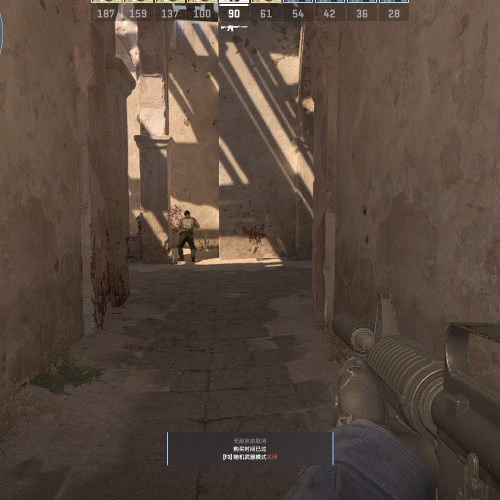t_body: (177, 210, 200, 263)
t_head: (183, 210, 190, 219)
